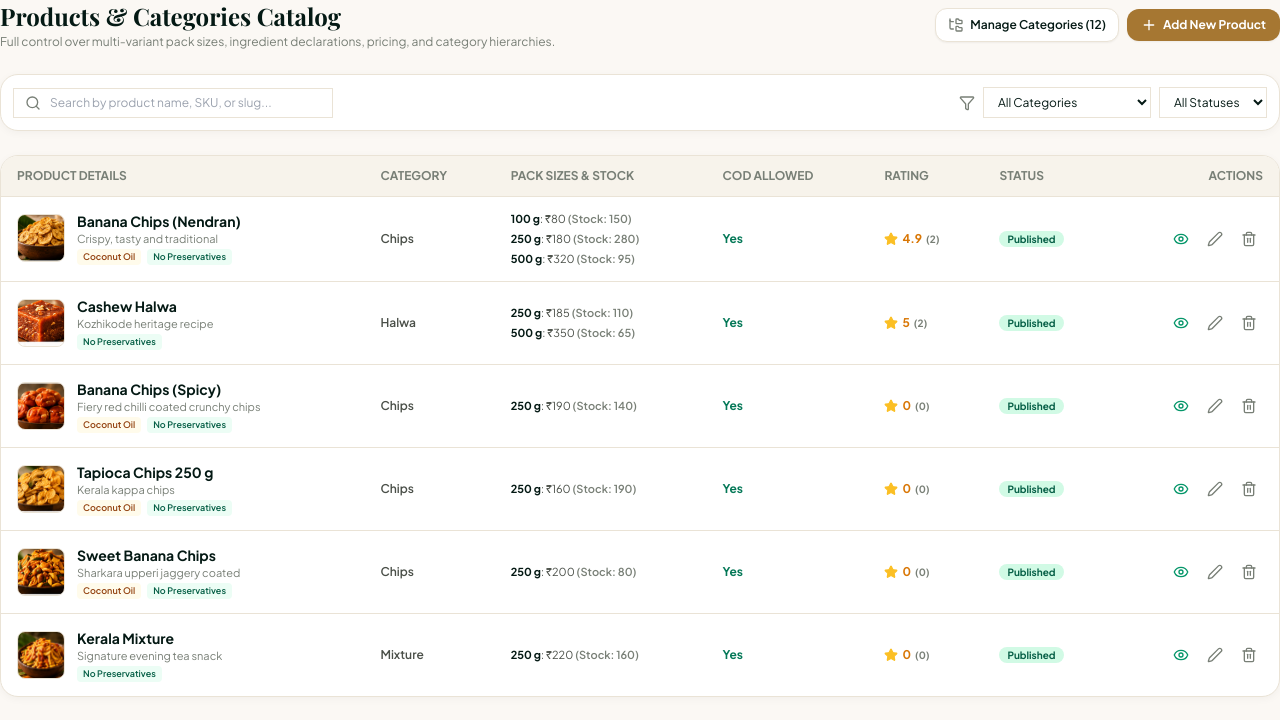
Test: Category Deletion & Unlinking Suite › opens category modal and supports deletion with unlinking or reassignment
Note: Open category manager
Click the button "Manage Categories (12)": (1027, 25) [935,8,1119,42]
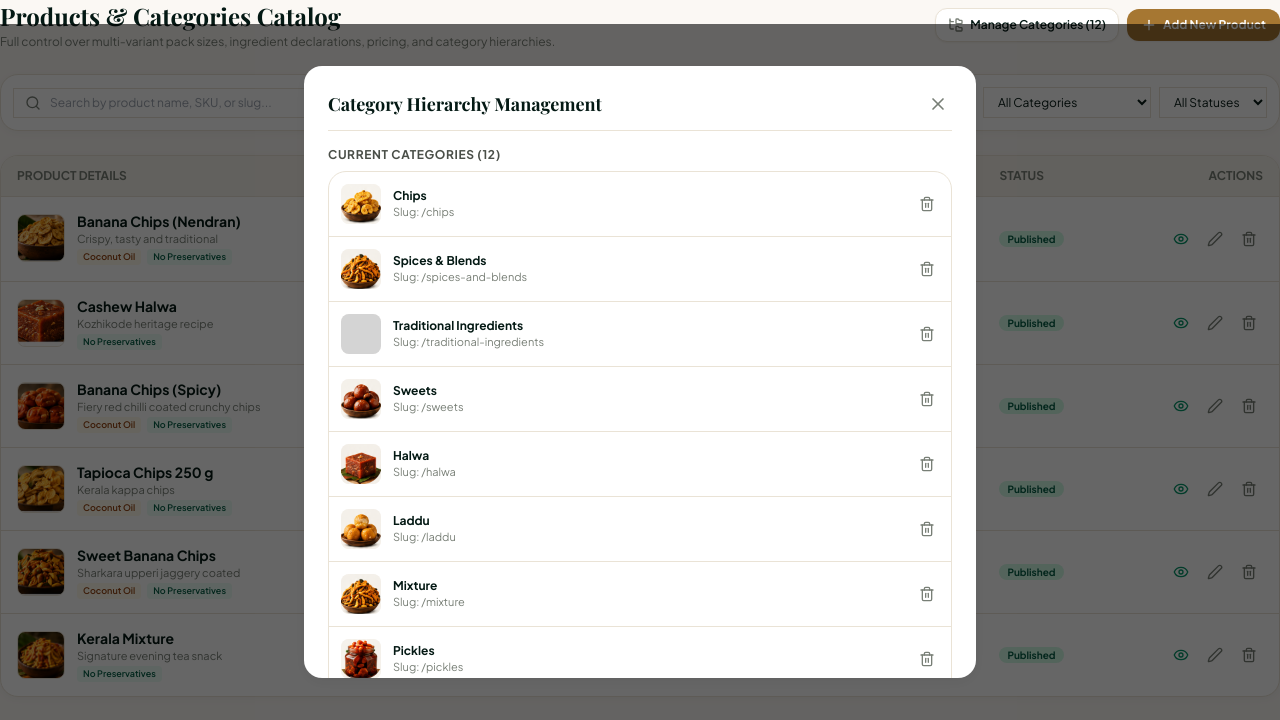
Result: the button titled "delete category" is shown
Click the button titled "delete category": (927, 204) [915,192,939,216]
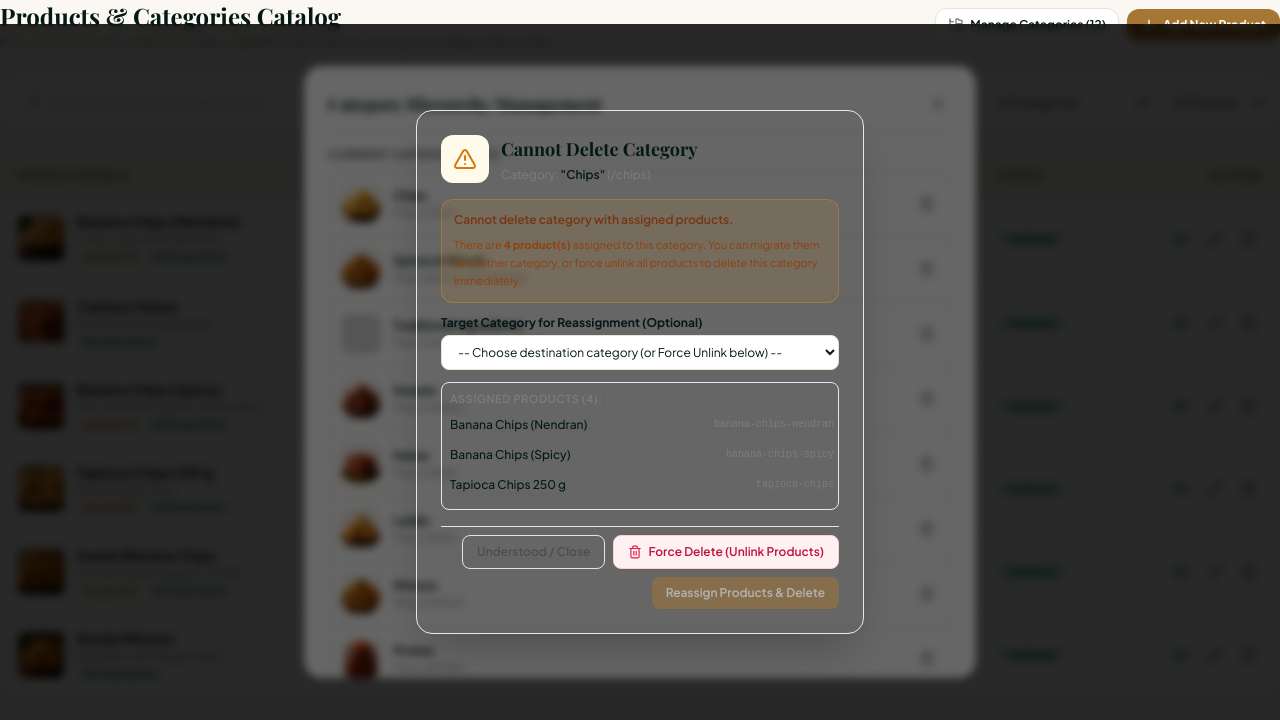
Result: the heading "Cannot Delete Category" is shown at [501,135,698,163]
Result: the button with test id "force-unlink-and-delete-category-btn" is shown at [613,535,839,569]
